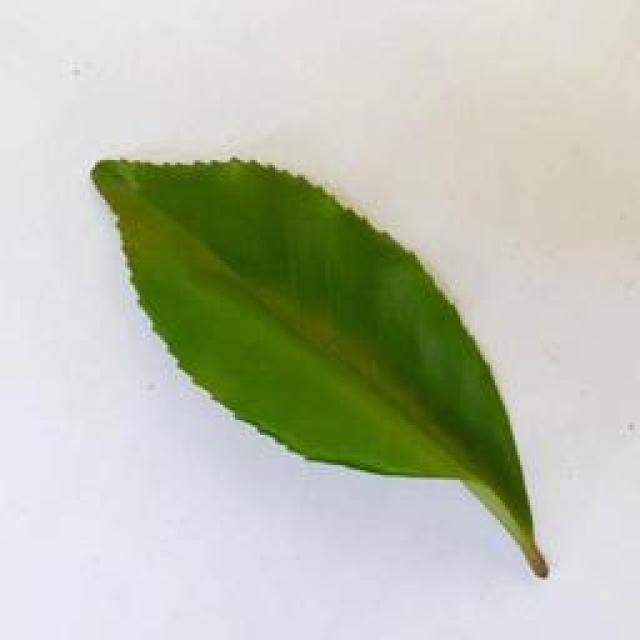Healthy: (72, 146, 562, 590)
